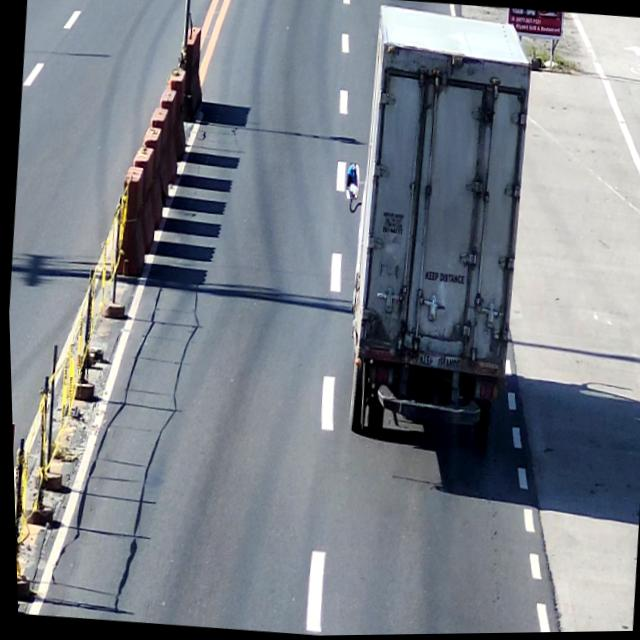Truck: (335, 5, 542, 450)
